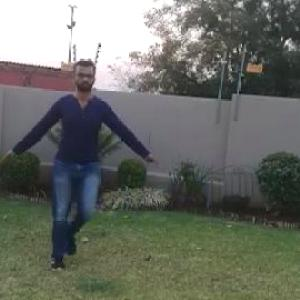land: (16, 72, 140, 243)
